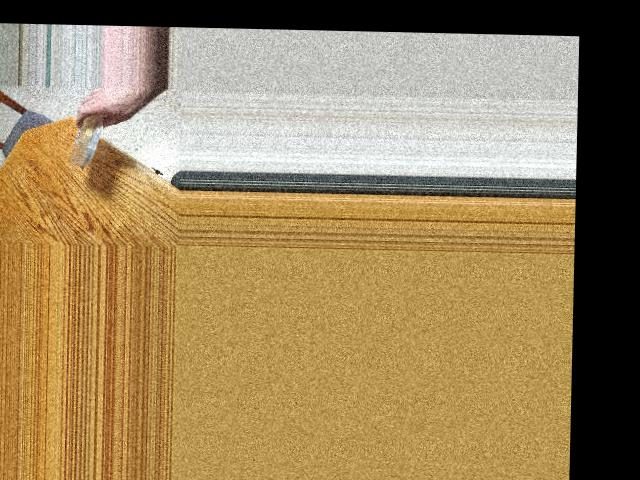cheese: (65, 113, 106, 160)
